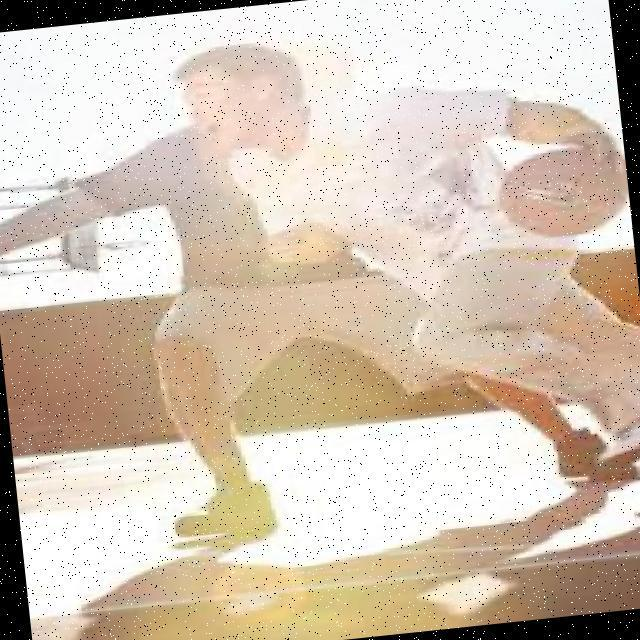Nike: (508, 174, 590, 206)
